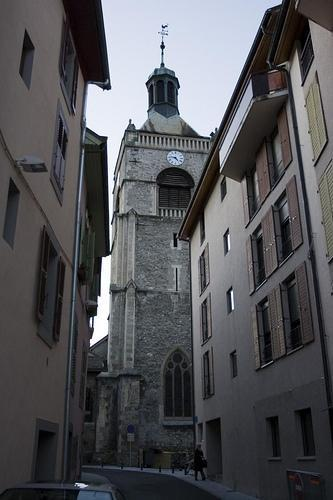car: (0, 480, 127, 500)
